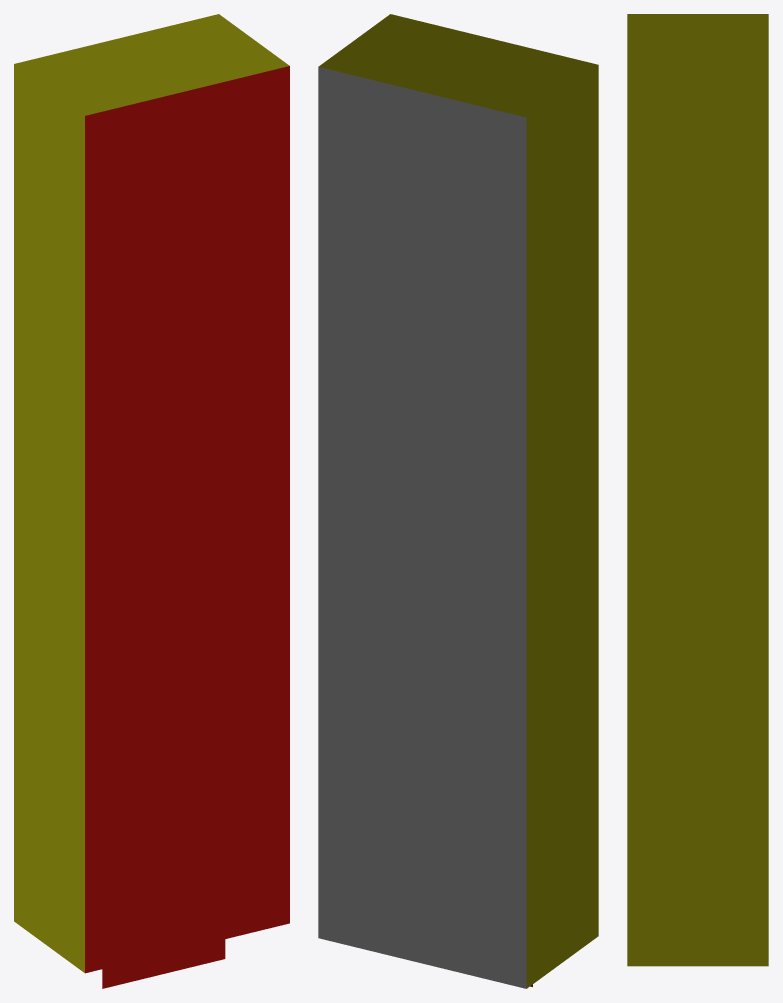
File: idf.obj
The picture shows the model from 3 angles, left to right: view 1: azimuth 30°, elevation 25°; view 2: azimuth 150°, elevation 25°; view 3: azimuth 270°, elevation 25°; orthographic projection. The views are drawn at different scales.
Bounding box in the file's own units: 5 × 21 × 3.
